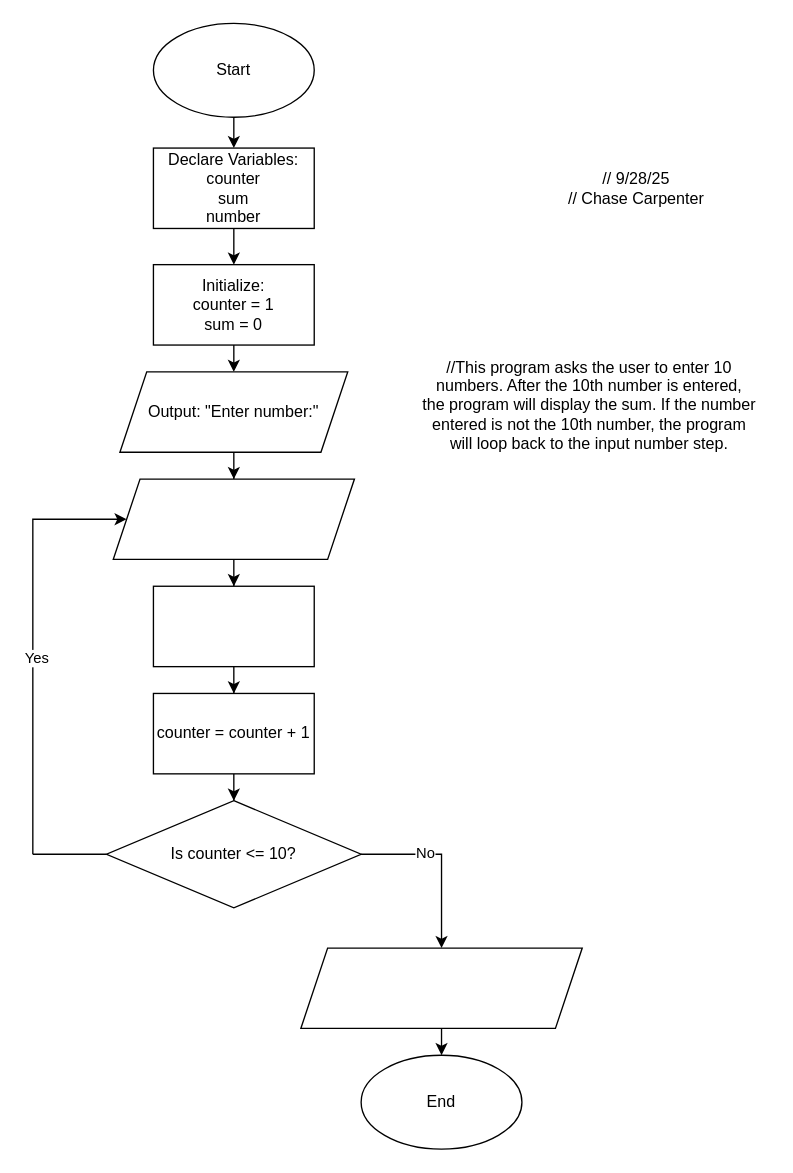
Some shapes in this 793 by 1173 pixel diagram are drawn without their labels. Here are the shapes that lost their labels. From the top down, the box of each, then its label:
(112, 478, 354, 559): Input number
(152, 585, 314, 667): sum = sum + number
(299, 947, 582, 1028): Output: "The total sum of the 10 numbers is: "sum",
